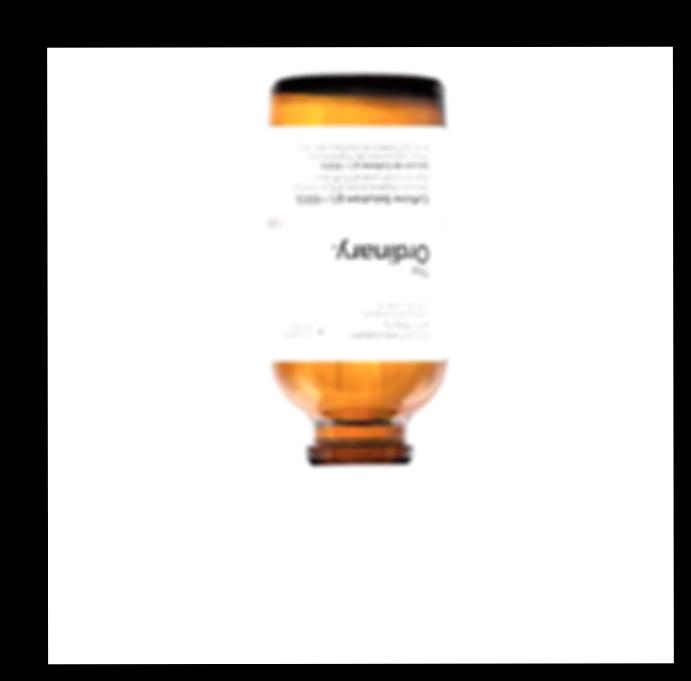cosmetic: (266, 78, 450, 636)
